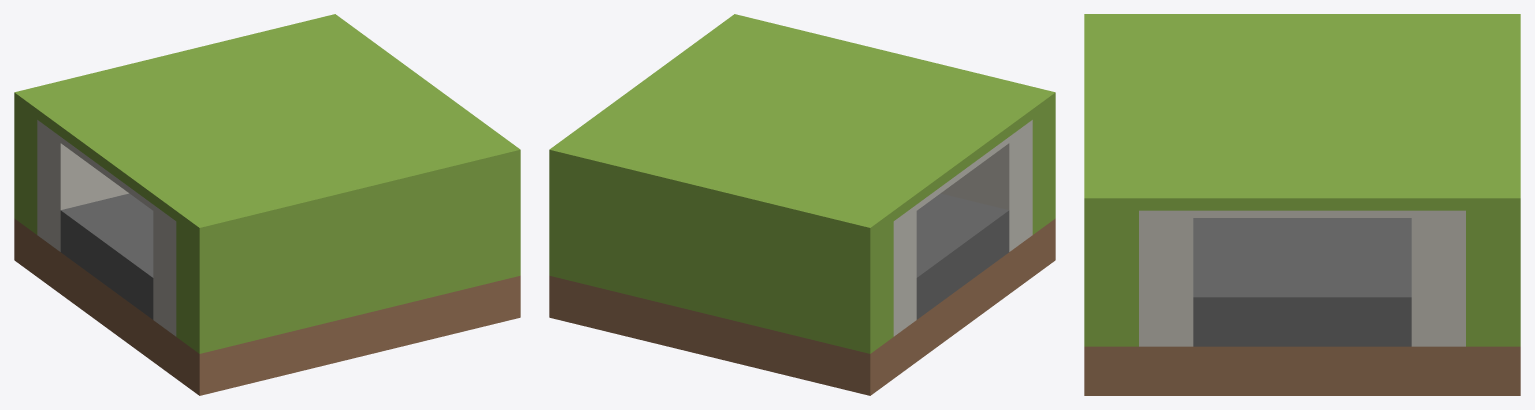
Rendered from road-tunnel-segment.obj.
3 renders of one model, left to right at view 1: azimuth 30°, elevation 25°; view 2: azimuth 150°, elevation 25°; view 3: azimuth 270°, elevation 25°, orthographic. The views are drawn at different scales.
Visible parts, largest first — view 1: road-tunnel-segment_Cube.349; view 2: road-tunnel-segment_Cube.349; view 3: road-tunnel-segment_Cube.349.
Boxes of the visible parts, bbox=[...] form: road-tunnel-segment_Cube.349: bbox=[14, 14, 520, 395]; road-tunnel-segment_Cube.349: bbox=[549, 14, 1055, 395]; road-tunnel-segment_Cube.349: bbox=[1084, 14, 1520, 395].
Bounding box in the file's own units: 8 × 4 × 8.
Materials: 1 (1 with a texture image).
